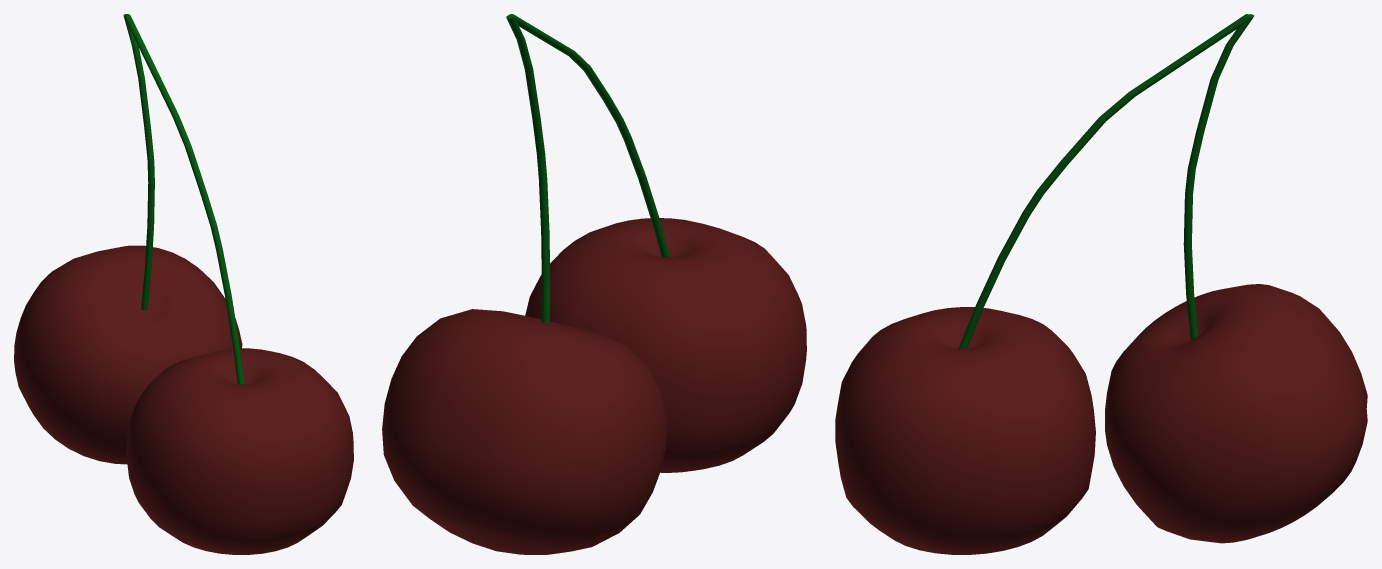
The model's file is cherry.fbx.
3 views of the same model, side by side, from view 1: azimuth 30°, elevation 25°; view 2: azimuth 150°, elevation 25°; view 3: azimuth 270°, elevation 25° (orthographic). The views are drawn at different scales.
Parts seen in each view (by area): view 1: Sphere.000; view 2: Sphere.000; view 3: Sphere.000.
Part boxes in pixels (bbox=[...]): Sphere.000: bbox=[14, 14, 353, 554]; Sphere.000: bbox=[382, 14, 806, 554]; Sphere.000: bbox=[835, 14, 1367, 554].
Bounding box in the file's own units: 216 × 463 × 423.
